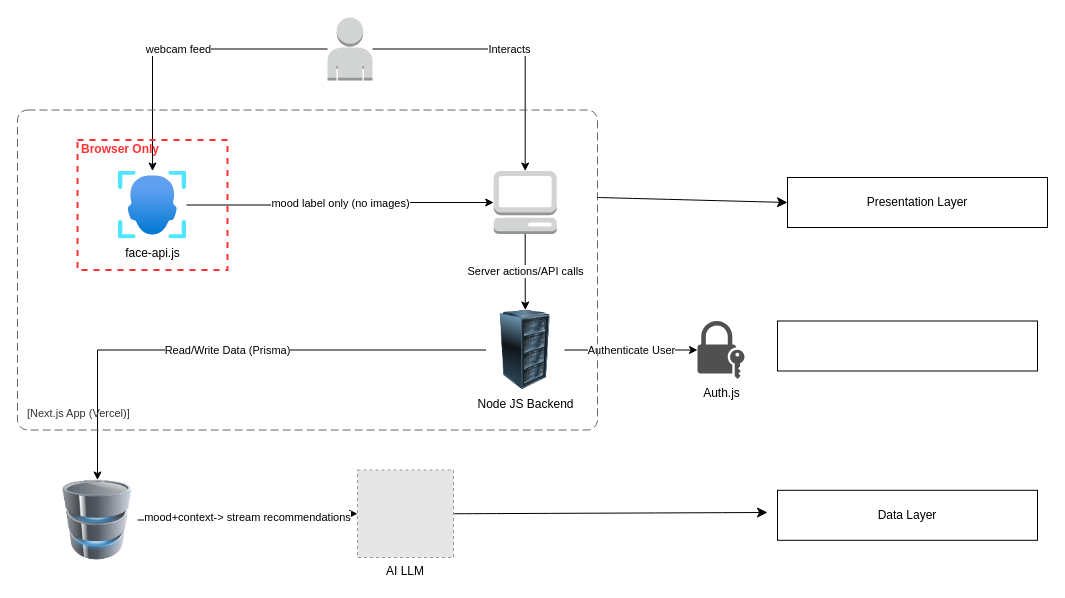
This 1065x598 diagram has some shape labels left out. Grey dashed boxes stand in for pictures. The shapes that lost their labels are listed below. From the top down, each one's centre as x and y in pixels, then its label:
(349,48): User
(525,202): Next.js Frontend
(907,345): Application Layer
(97,520): PostgreSQL DB
